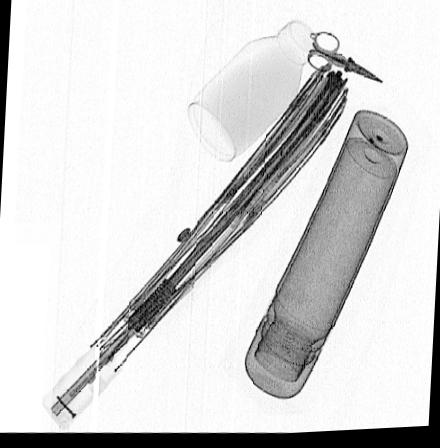Scissors: (305, 33, 384, 88)
